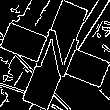N_S: (27, 24, 83, 86)
